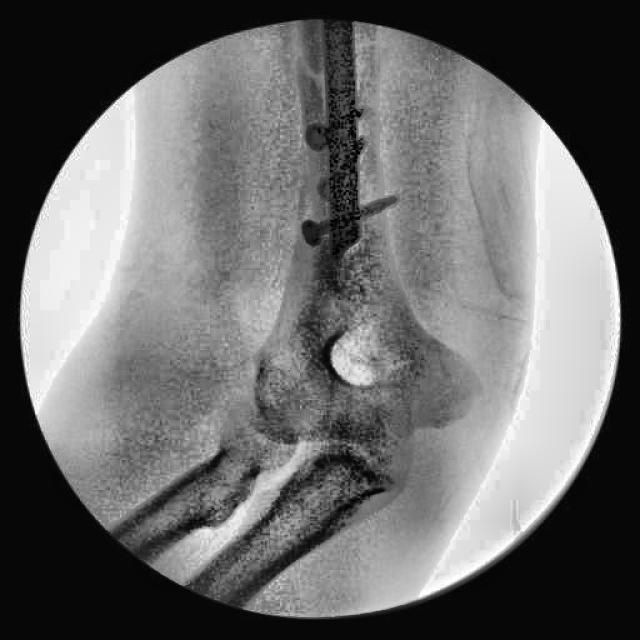humerus: (275, 40, 352, 122)
